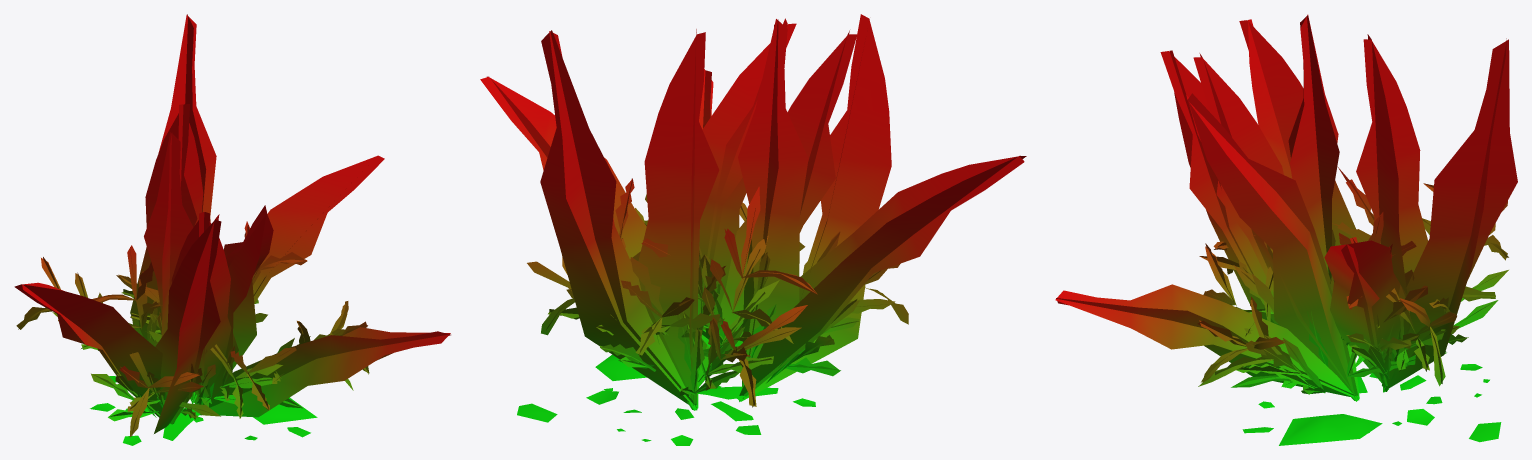
Rendered from S_River_Saltbush_vdfpcgbia_Var4_lod0.FBX.
3 renders of one model, left to right at view 1: azimuth 30°, elevation 25°; view 2: azimuth 150°, elevation 25°; view 3: azimuth 270°, elevation 25°, orthographic. The views are drawn at different scales.
Parts seen in each view (by area): view 1: S_River_Saltbush_vdfpcgbia_Var4_lod0_LOD0; view 2: S_River_Saltbush_vdfpcgbia_Var4_lod0_LOD0; view 3: S_River_Saltbush_vdfpcgbia_Var4_lod0_LOD0.
Boxes of the visible parts, x1,y1,x2,y2 form: S_River_Saltbush_vdfpcgbia_Var4_lod0_LOD0: (14, 14, 450, 445); S_River_Saltbush_vdfpcgbia_Var4_lod0_LOD0: (480, 14, 1026, 445); S_River_Saltbush_vdfpcgbia_Var4_lod0_LOD0: (1055, 14, 1517, 445).
Bounding box in the file's own units: 20.61 × 17.5 × 16.36.
